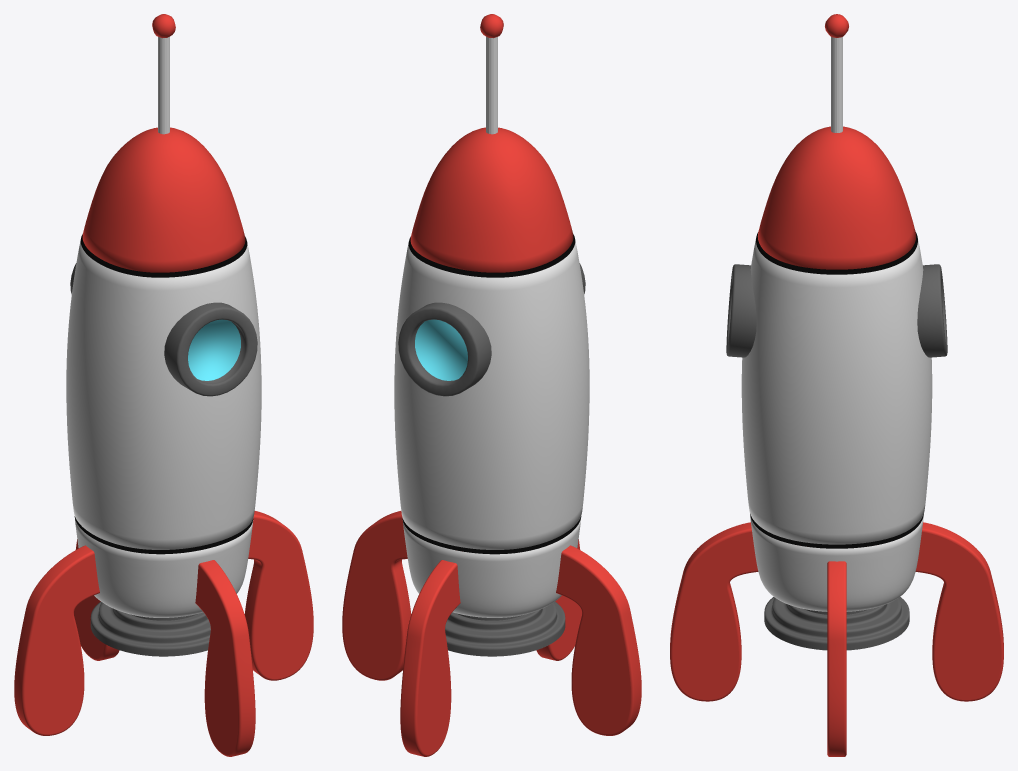
The model's file is rocket.glb.
3 renders of one model, left to right at view 1: azimuth 30°, elevation 25°; view 2: azimuth 150°, elevation 25°; view 3: azimuth 270°, elevation 25°, orthographic.
Parts seen in each view (by area): view 1: Cube, BezierCircle.002, BezierCircle.003, BezierCircle, Cylinder.002, BezierCircle.001, Cylinder.001; view 2: Cube, BezierCircle.002, BezierCircle.003, BezierCircle.001, Cylinder, BezierCircle, Cylinder.001; view 3: Cube, BezierCircle, BezierCircle.001, BezierCircle.003, Cylinder.002, Cylinder, Cylinder.001.
Boxes of the visible parts, x1,y1,x2,y2 form: Cube: (66,127,261,656); BezierCircle.002: (14,545,99,735); BezierCircle.003: (244,511,313,680); BezierCircle: (195,560,255,756); Cylinder.002: (164,302,257,396); BezierCircle.001: (74,539,119,660); Cylinder.001: (158,36,169,134); Cube: (394,127,589,656); BezierCircle.002: (556,545,641,735); BezierCircle.003: (342,511,411,680); BezierCircle.001: (400,560,460,756); Cylinder: (398,302,491,396); BezierCircle: (536,539,581,660); Cylinder.001: (486,36,497,134); Cube: (741,126,932,650); BezierCircle: (670,522,758,701); BezierCircle.001: (915,522,1003,701); BezierCircle.003: (827,561,846,756); Cylinder.002: (726,264,756,357); Cylinder: (917,264,947,357); Cylinder.001: (831,37,842,132).
Bounding box in the file's own units: 3.83 × 8.64 × 3.83.
